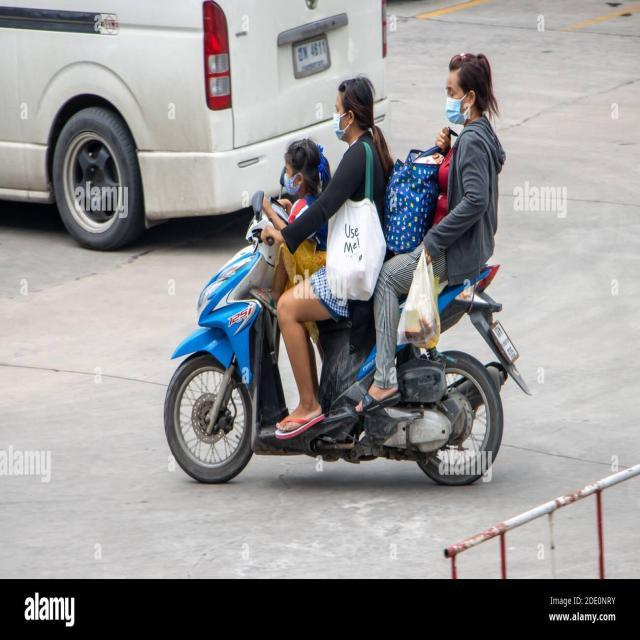No helmet: (328, 67, 383, 148)
Triple riding: (266, 44, 526, 397)
